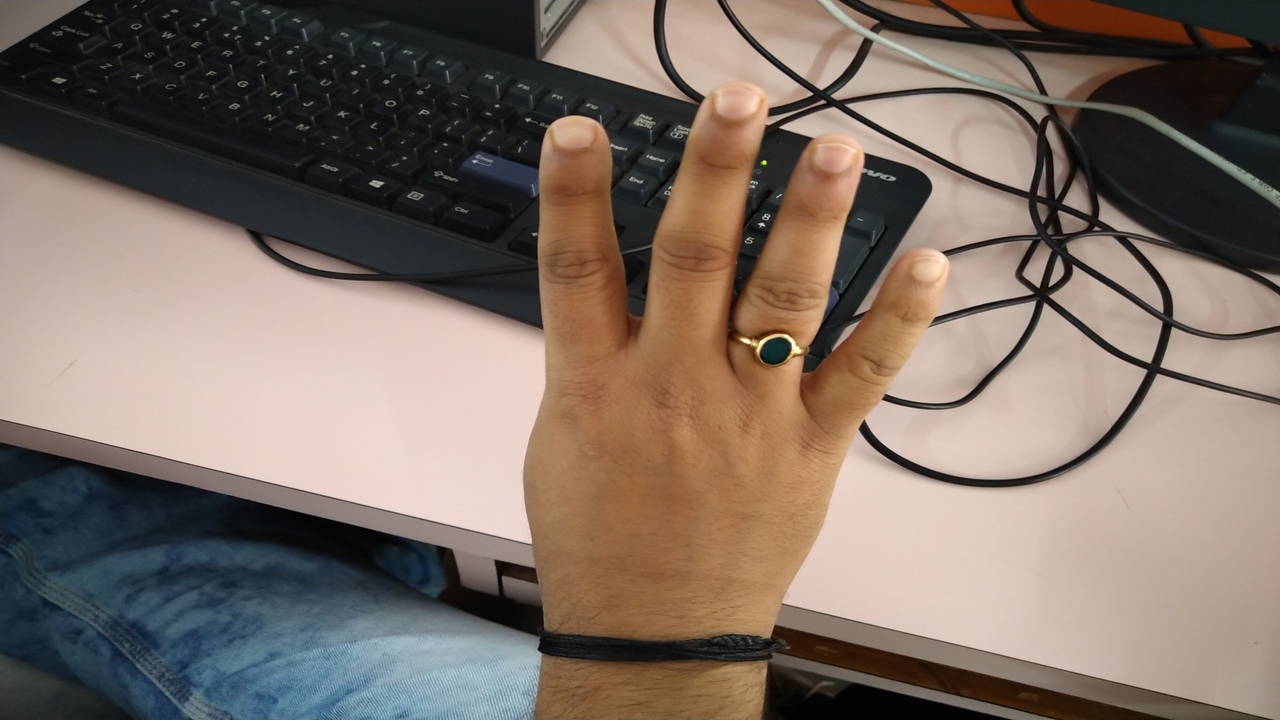fingertip: (694, 72, 776, 142), (794, 126, 866, 196), (536, 108, 606, 178), (894, 244, 964, 304)
